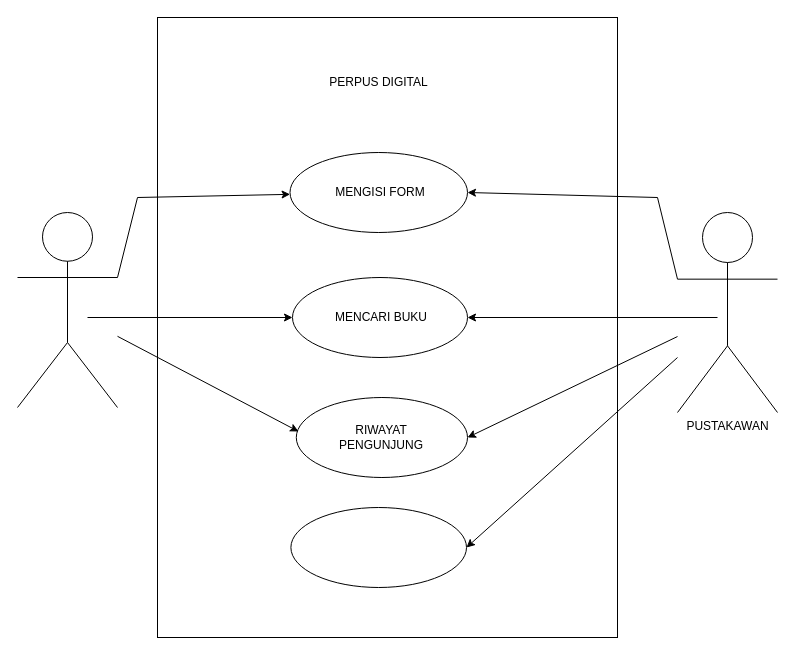
The diagram is 795 pixels wide and 655 high, and some of its shapes have lost their labels. Here are the shapes that lost their labels. From the top down, the centre of each, then its label:
At (67,310): "USER".
At (378,547): "SELESAI".
